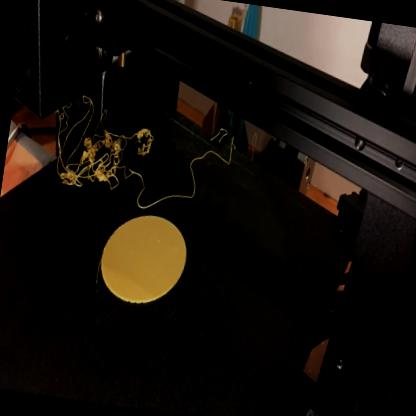fail: (51, 113, 203, 218)
